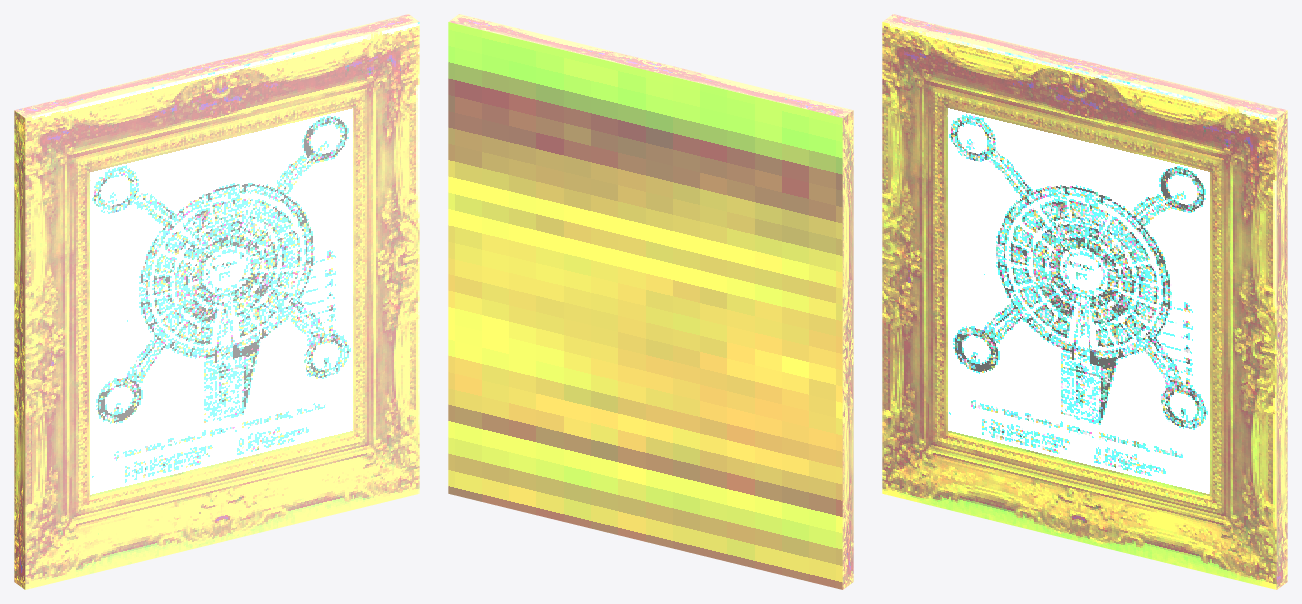
Rendered from urn_painting_1.glb.
3 views of the same model, side by side, from view 1: azimuth 30°, elevation 25°; view 2: azimuth 150°, elevation 25°; view 3: azimuth 330°, elevation 25° (orthographic).
Visible parts, largest first — view 1: urn_painting_1; view 2: urn_painting_1; view 3: urn_painting_1.
Part boxes in pixels (x1=…): urn_painting_1: x1=14, y1=14, x2=419, y2=589; urn_painting_1: x1=448, y1=14, x2=853, y2=589; urn_painting_1: x1=882, y1=14, x2=1287, y2=589.
Size of the model in its own units: 2.1 by 2.4 by 0.1.
